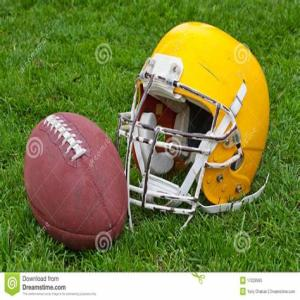Rugby: (23, 111, 130, 253)
